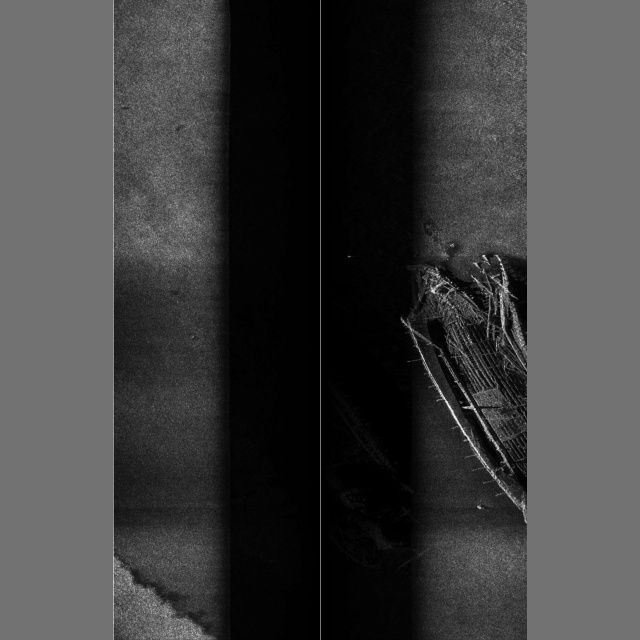Shipwreck: (320, 244, 527, 572)
